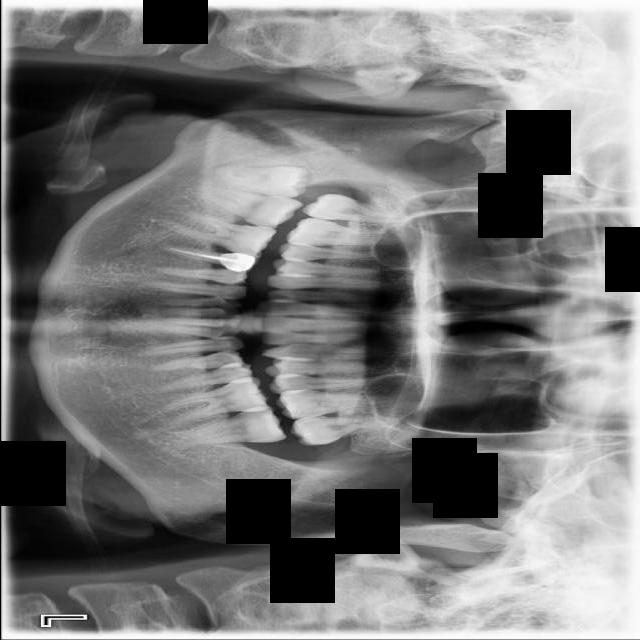52: (219, 252, 257, 274)
73: (160, 243, 232, 267), (22, 621, 33, 630)
BioHorizons Implant: (291, 415, 389, 445)
Blue Sky Bio Implant: (167, 404, 284, 450)
Caries: (303, 192, 410, 229)
Implant: (197, 186, 304, 232)
Keystone Dental Implant: (219, 166, 310, 198)
